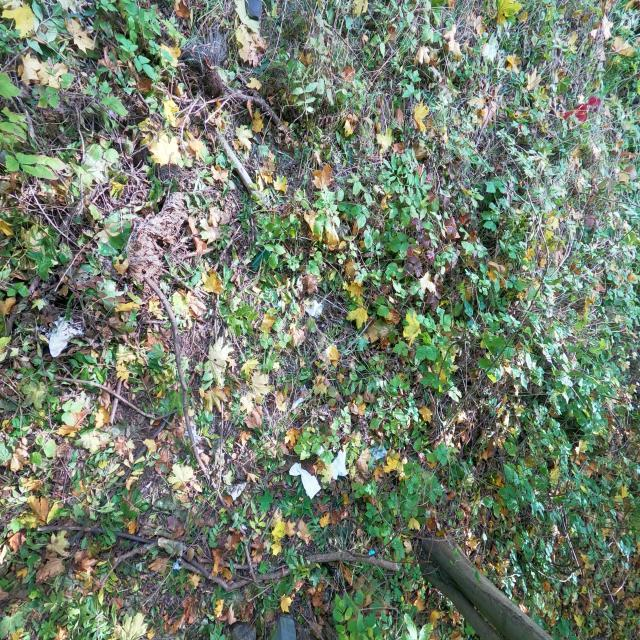rubbish: (554, 282, 592, 324), (317, 139, 351, 178), (293, 46, 321, 78), (367, 364, 394, 394), (291, 159, 311, 192), (315, 320, 336, 343), (252, 177, 271, 196), (460, 71, 468, 79), (265, 85, 273, 90)
